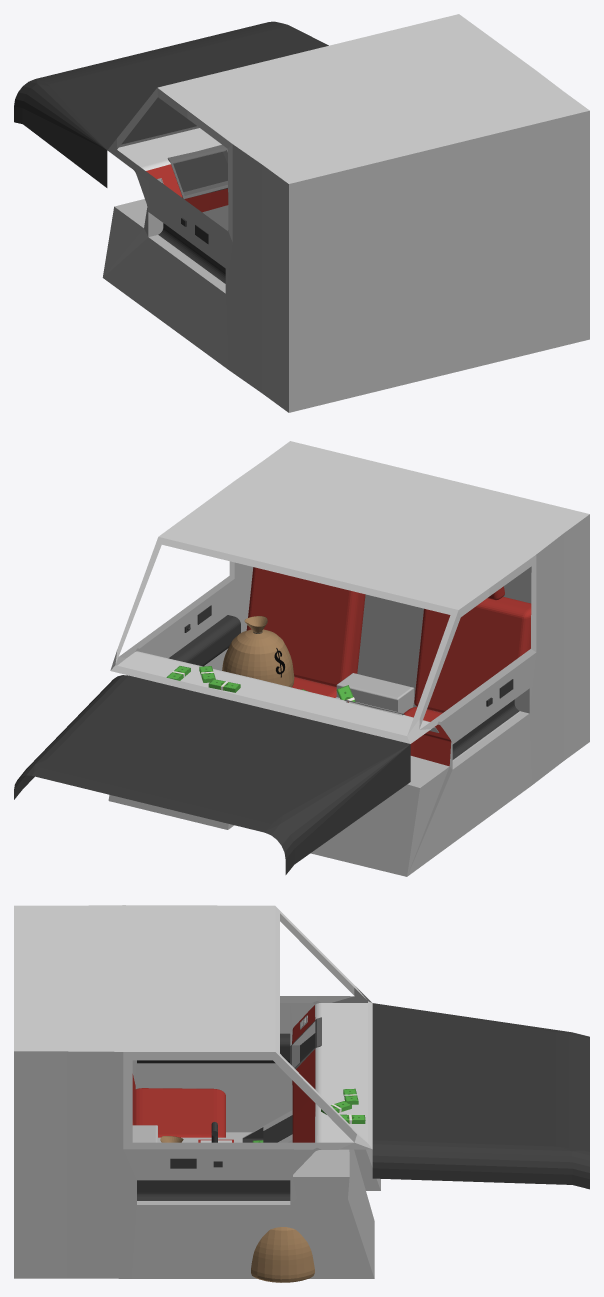
The model's file is CarFinal.glb.
3 views of the same model, one above another, from view 1: azimuth 30°, elevation 25°; view 2: azimuth 150°, elevation 25°; view 3: azimuth 270°, elevation 25° (orthographic).
Parts seen in each view (by area): view 1: carinterior; view 2: carinterior; view 3: carinterior.
Part boxes in pixels (<box>): carinterior: <box>14,14,589,412</box>; carinterior: <box>14,441,589,876</box>; carinterior: <box>14,905,589,1282</box>.
Size of the model in its own units: 1.93 by 1.33 by 3.05.
16 materials, 1 textured.
